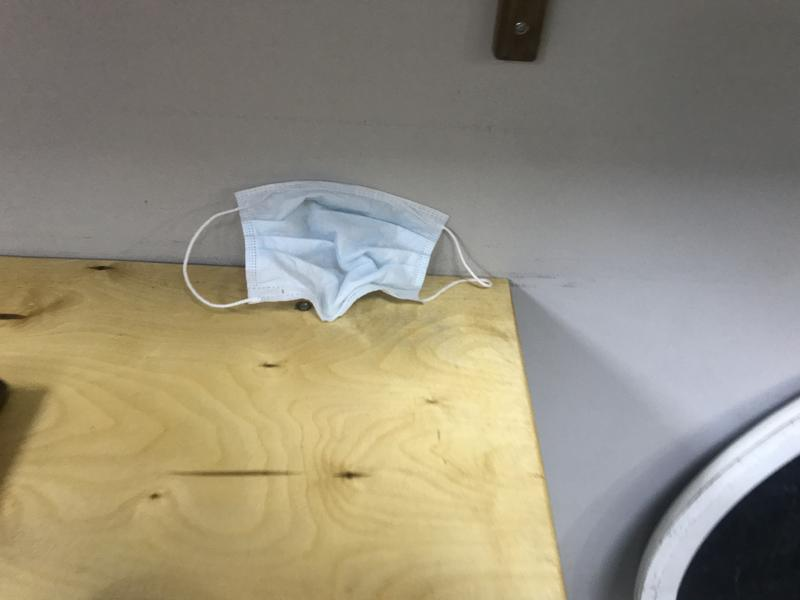medical_mask: (183, 179, 491, 322)
